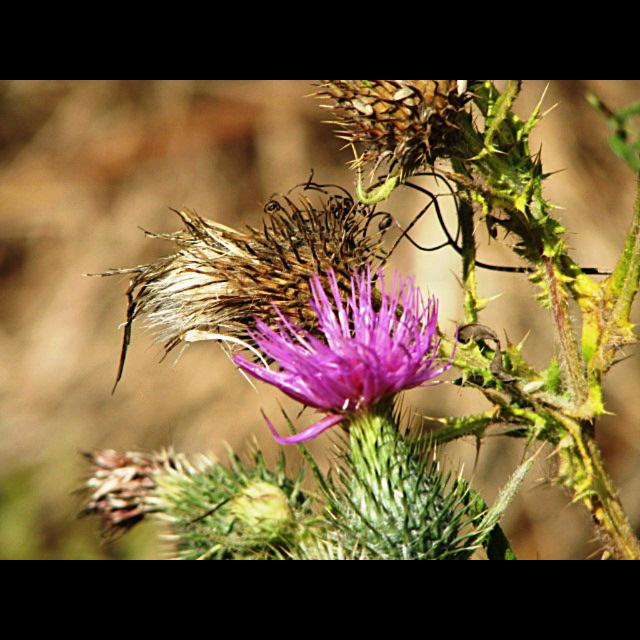Flower: (252, 255, 452, 438)
